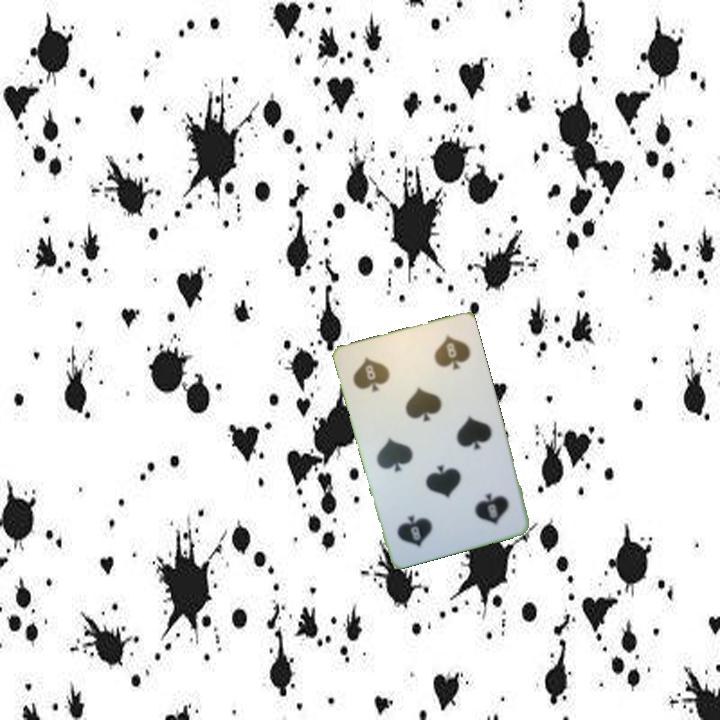s_8.png: (442, 470, 521, 542), (343, 338, 421, 410)
